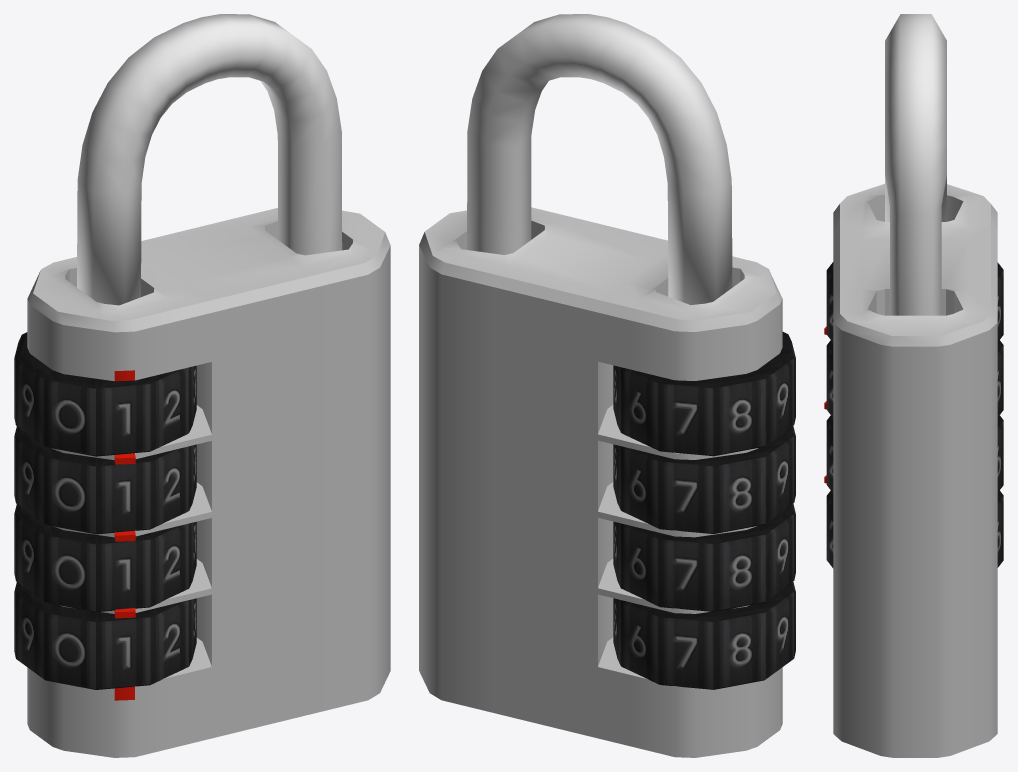
File: lock (2).fbx
3 renders of one model, left to right at view 1: azimuth 30°, elevation 25°; view 2: azimuth 150°, elevation 25°; view 3: azimuth 270°, elevation 25°, orthographic. The views are drawn at different scales.
Parts seen in each view (by area): view 1: lock_frame, lock_ring, Lock_1, Lock_4, Lock_3, Lock_2; view 2: lock_frame, lock_ring, Lock_1, Lock_4, Lock_3, Lock_2; view 3: lock_frame, lock_ring, Lock_1, Lock_2, Lock_4, Lock_3.
Part boxes in pixels (x1,y1,x2,y2): lock_frame: (27, 208, 390, 757); lock_ring: (77, 14, 342, 305); Lock_1: (14, 332, 196, 456); Lock_4: (14, 582, 196, 689); Lock_3: (14, 504, 196, 612); Lock_2: (14, 426, 196, 534); lock_frame: (419, 207, 782, 757); lock_ring: (467, 14, 732, 304); Lock_1: (613, 332, 795, 456); Lock_4: (613, 582, 795, 689); Lock_3: (613, 504, 795, 611); Lock_2: (613, 426, 795, 533); lock_frame: (824, 184, 997, 757); lock_ring: (885, 14, 946, 315); Lock_1: (826, 262, 1003, 342); Lock_2: (826, 340, 1003, 417); Lock_4: (826, 490, 1003, 568); Lock_3: (826, 415, 1003, 492).
Size of the model in its own units: 4.87 by 8.99 by 2.25.
